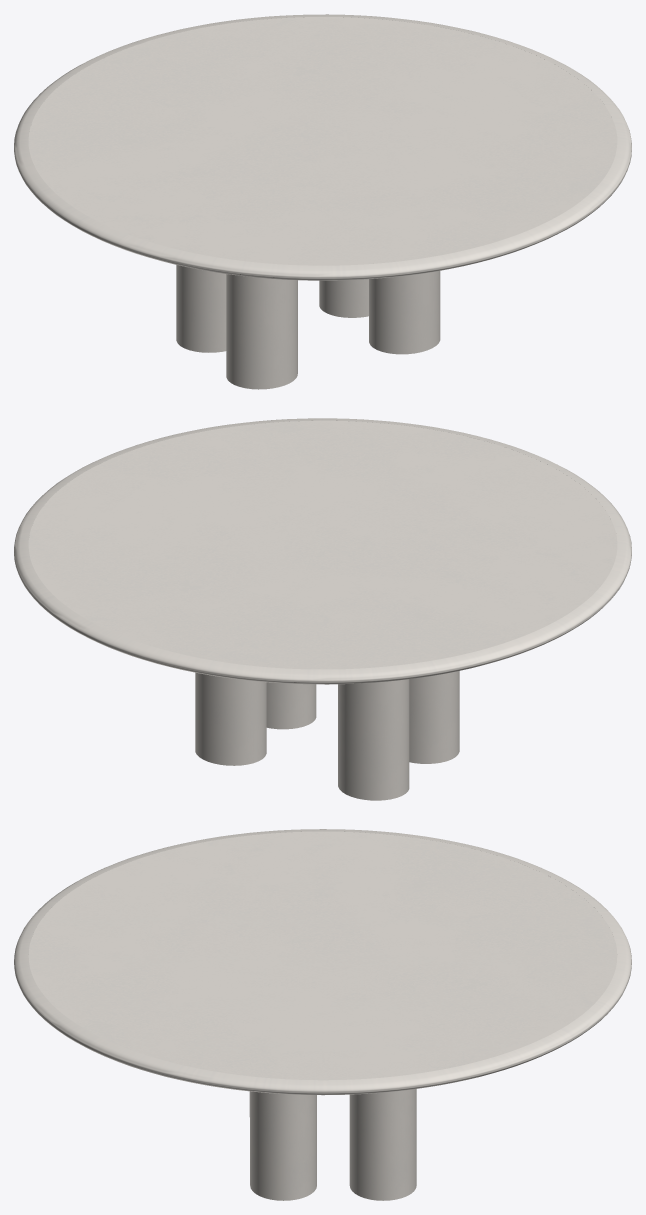
File: pearlwhite_oval_round_grove.glb
3 views of the same model, one above another, from view 1: azimuth 30°, elevation 25°; view 2: azimuth 150°, elevation 25°; view 3: azimuth 270°, elevation 25° (orthographic).
Parts seen in each view (by area): view 1: round_round, grove; view 2: round_round, grove; view 3: round_round, grove.
Part boxes in pixels (<box>): round_round: <box>14,14,631,280</box>; grove: <box>176,265,440,389</box>; round_round: <box>14,418,631,684</box>; grove: <box>195,671,459,800</box>; round_round: <box>14,829,631,1095</box>; grove: <box>249,1089,416,1200</box>.
Size of the model in its own units: 7.09 by 2.52 by 7.09.
1 material, 1 textured.
